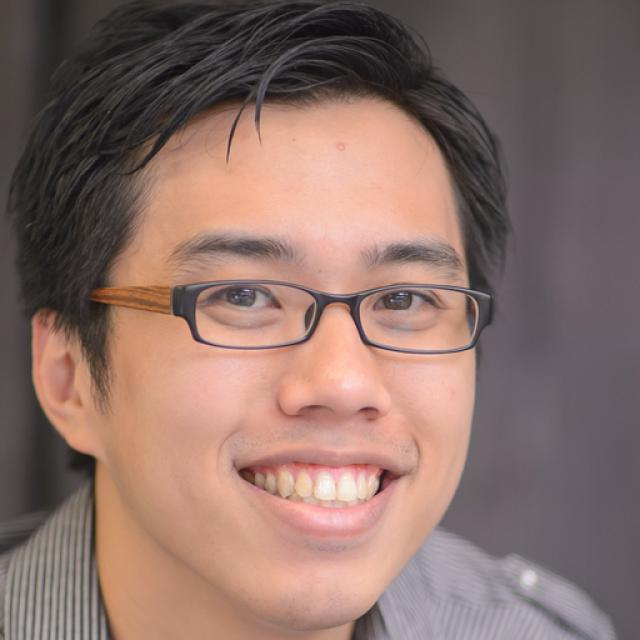Acne: (330, 138, 358, 155)
